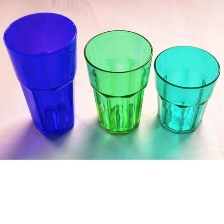glass: (0, 7, 88, 143), (78, 21, 156, 138), (147, 38, 224, 138)
